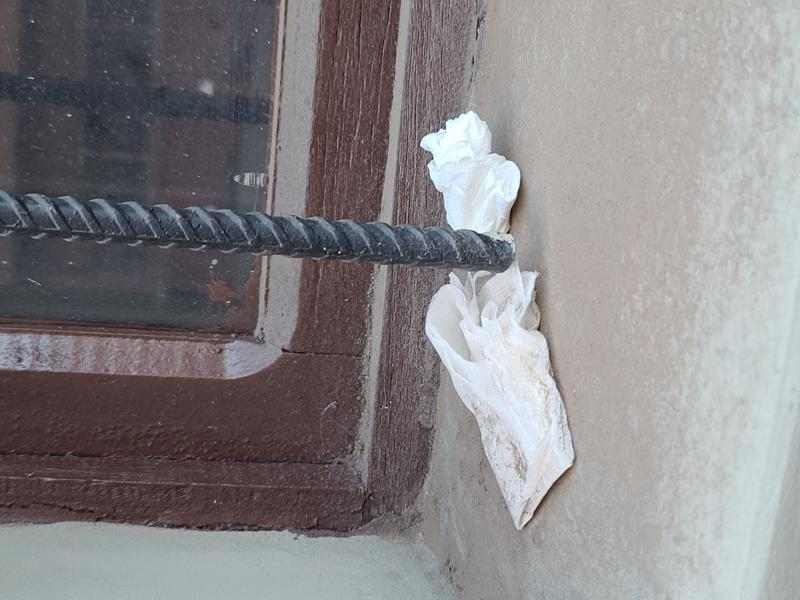papel: (424, 262, 577, 533)
